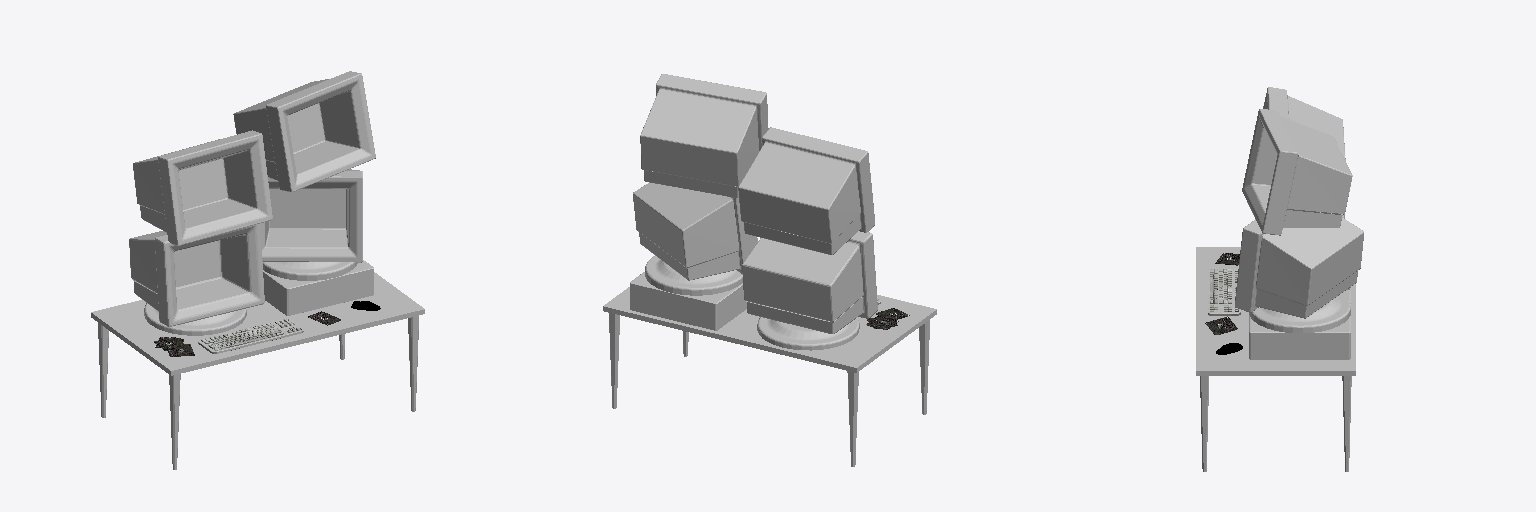
The picture shows the model from 3 angles: view 1: azimuth 30°, elevation 25°; view 2: azimuth 150°, elevation 25°; view 3: azimuth 270°, elevation 25°; orthographic projection.
Visible parts, largest first — view 1: Cylinder.001_Cylinder.098_Cylinder.001_Cylinder.1073, Cylinder.001_Cylinder.099_Cylinder.001_Cylinder.1074, Cylinder.001_Cylinder.101_Cylinder.001_Cylinder.1075, Cylinder.001_Cylinder.095_Cylinder.001_Cylinder.1070, Cylinder.001_Cylinder.097_Cylinder.001_Cylinder.1072, Cylinder.001_Cylinder.114_Cylinder.001_Cylinder.1088, Cylinder.001_Cylinder.100_Cylinder.001_Cylinder.961, Cylinder.001_Cylinder.096_Cylinder.001_Cylinder.1071, Cylinder.001_Cylinder.102_Cylinder.001_Cylinder.1076, Cylinder.001_Cylinder.104_Cylinder.001_Cylinder.1078, Cylinder.001_Cylinder.106_Cylinder.001_Cylinder.1080, Cylinder.001_Cylinder.001_Cylinder.001_Cylinder.976; view 2: Cylinder.001_Cylinder.098_Cylinder.001_Cylinder.1073, Cylinder.001_Cylinder.099_Cylinder.001_Cylinder.1074, Cylinder.001_Cylinder.101_Cylinder.001_Cylinder.1075, Cylinder.001_Cylinder.097_Cylinder.001_Cylinder.1072, Cylinder.001_Cylinder.095_Cylinder.001_Cylinder.1070, Cylinder.001_Cylinder.114_Cylinder.001_Cylinder.1088, Cylinder.001_Cylinder.100_Cylinder.001_Cylinder.961, Cylinder.001_Cylinder.096_Cylinder.001_Cylinder.1071, Cylinder.001_Cylinder.106_Cylinder.001_Cylinder.1080, Cylinder.001_Cylinder.105_Cylinder.001_Cylinder.1079, Cylinder.001_Cylinder.102_Cylinder.001_Cylinder.1076; view 3: Cylinder.001_Cylinder.099_Cylinder.001_Cylinder.1074, Cylinder.001_Cylinder.097_Cylinder.001_Cylinder.1072, Cylinder.001_Cylinder.095_Cylinder.001_Cylinder.1070, Cylinder.001_Cylinder.114_Cylinder.001_Cylinder.1088, Cylinder.001_Cylinder.096_Cylinder.001_Cylinder.1071, Cylinder.001_Cylinder.098_Cylinder.001_Cylinder.1073, Cylinder.001_Cylinder.104_Cylinder.001_Cylinder.1078, Cylinder.001_Cylinder.105_Cylinder.001_Cylinder.1079.
Boxes of the visible parts, x1,y1,x2,y2 form: Cylinder.001_Cylinder.098_Cylinder.001_Cylinder.1073: [133, 130, 272, 245]; Cylinder.001_Cylinder.099_Cylinder.001_Cylinder.1074: [233, 71, 375, 191]; Cylinder.001_Cylinder.101_Cylinder.001_Cylinder.1075: [129, 224, 264, 326]; Cylinder.001_Cylinder.095_Cylinder.001_Cylinder.1070: [91, 272, 424, 375]; Cylinder.001_Cylinder.097_Cylinder.001_Cylinder.1072: [260, 169, 362, 262]; Cylinder.001_Cylinder.114_Cylinder.001_Cylinder.1088: [263, 260, 373, 315]; Cylinder.001_Cylinder.100_Cylinder.001_Cylinder.961: [144, 303, 246, 335]; Cylinder.001_Cylinder.096_Cylinder.001_Cylinder.1071: [263, 262, 357, 280]; Cylinder.001_Cylinder.102_Cylinder.001_Cylinder.1076: [169, 374, 180, 469]; Cylinder.001_Cylinder.104_Cylinder.001_Cylinder.1078: [408, 316, 418, 411]; Cylinder.001_Cylinder.106_Cylinder.001_Cylinder.1080: [98, 323, 108, 417]; Cylinder.001_Cylinder.001_Cylinder.001_Cylinder.976: [198, 319, 303, 353]; Cylinder.001_Cylinder.098_Cylinder.001_Cylinder.1073: [738, 127, 874, 254]; Cylinder.001_Cylinder.099_Cylinder.001_Cylinder.1074: [640, 74, 768, 197]; Cylinder.001_Cylinder.101_Cylinder.001_Cylinder.1075: [742, 231, 877, 333]; Cylinder.001_Cylinder.097_Cylinder.001_Cylinder.1072: [633, 182, 757, 280]; Cylinder.001_Cylinder.095_Cylinder.001_Cylinder.1070: [603, 287, 936, 372]; Cylinder.001_Cylinder.114_Cylinder.001_Cylinder.1088: [630, 272, 746, 330]; Cylinder.001_Cylinder.100_Cylinder.001_Cylinder.961: [757, 317, 859, 350]; Cylinder.001_Cylinder.096_Cylinder.001_Cylinder.1071: [645, 256, 742, 295]; Cylinder.001_Cylinder.106_Cylinder.001_Cylinder.1080: [847, 371, 858, 466]; Cylinder.001_Cylinder.105_Cylinder.001_Cylinder.1079: [609, 313, 619, 408]; Cylinder.001_Cylinder.102_Cylinder.001_Cylinder.1076: [919, 320, 929, 414]; Cylinder.001_Cylinder.099_Cylinder.001_Cylinder.1074: [1242, 109, 1352, 235]; Cylinder.001_Cylinder.097_Cylinder.001_Cylinder.1072: [1235, 217, 1363, 318]; Cylinder.001_Cylinder.095_Cylinder.001_Cylinder.1070: [1196, 247, 1355, 375]; Cylinder.001_Cylinder.114_Cylinder.001_Cylinder.1088: [1249, 290, 1350, 359]; Cylinder.001_Cylinder.096_Cylinder.001_Cylinder.1071: [1249, 293, 1350, 333]; Cylinder.001_Cylinder.098_Cylinder.001_Cylinder.1073: [1263, 87, 1345, 160]; Cylinder.001_Cylinder.104_Cylinder.001_Cylinder.1078: [1200, 376, 1208, 471]; Cylinder.001_Cylinder.105_Cylinder.001_Cylinder.1079: [1342, 376, 1351, 471].
Bounding box in the file's own units: 2.09 × 2.46 × 1.2.
6 materials, 2 textured.